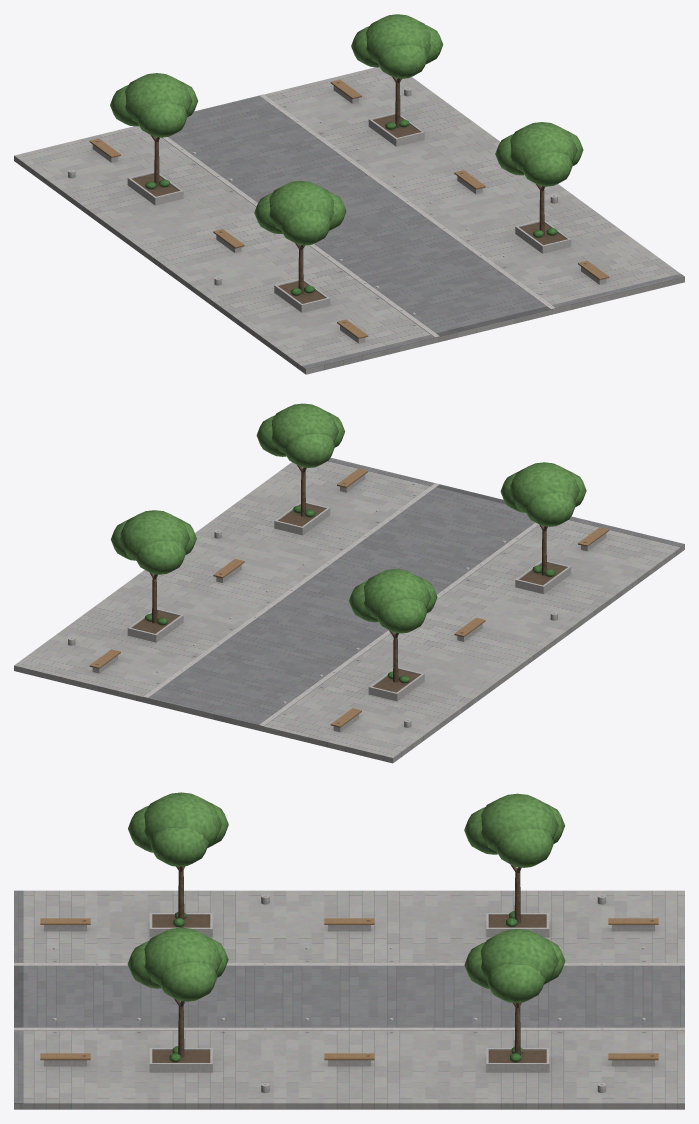
The model's file is IlsanPlaza01_LOD2.fbx.
The picture shows the model from 3 angles, top to bottom: view 1: azimuth 30°, elevation 25°; view 2: azimuth 150°, elevation 25°; view 3: azimuth 270°, elevation 25°; orthographic projection. The views are drawn at different scales.
Visible parts, largest first — view 1: IlsanPlaza01_LOD2; view 2: IlsanPlaza01_LOD2; view 3: IlsanPlaza01_LOD2.
Part boxes in pixels (left/top/right/bottom): IlsanPlaza01_LOD2: left=14, top=14, right=684, bottom=374; IlsanPlaza01_LOD2: left=14, top=403, right=684, bottom=763; IlsanPlaza01_LOD2: left=14, top=792, right=684, bottom=1109.
Size of the model in its own units: 23.9 by 7.22 by 31.9.
1 material, 1 textured.
